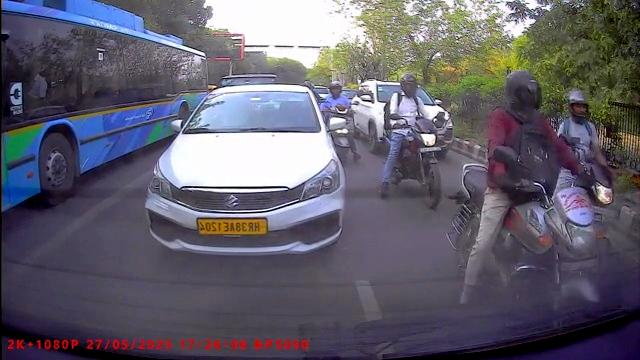motorcycle_with_helmet: (445, 70, 605, 310), (383, 73, 442, 210), (321, 81, 357, 166)
